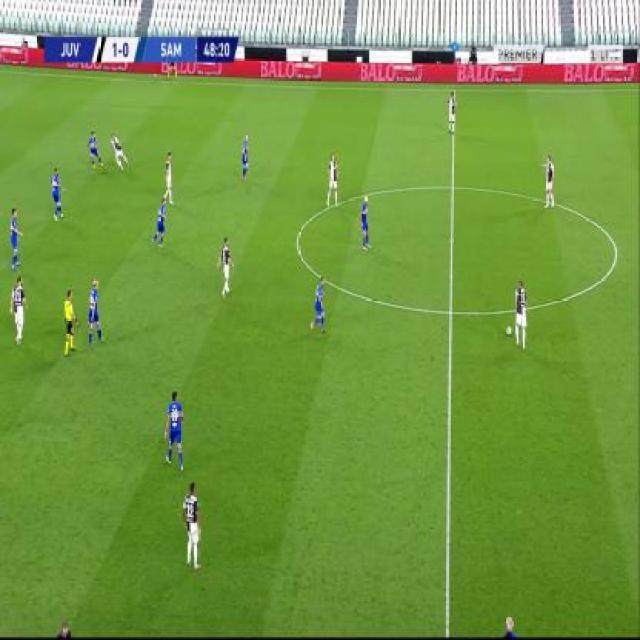ball: (506, 324, 512, 337)
player: (181, 480, 203, 571), (164, 387, 187, 472), (9, 275, 28, 346), (512, 275, 529, 351), (86, 276, 103, 350), (63, 288, 80, 356), (308, 276, 327, 336), (8, 205, 25, 270), (217, 236, 234, 299), (151, 195, 168, 251), (325, 151, 341, 208), (541, 153, 557, 210), (50, 165, 66, 221), (86, 129, 105, 172), (109, 132, 129, 172), (358, 193, 371, 253), (163, 150, 176, 206), (240, 131, 251, 182), (445, 90, 458, 133), (167, 60, 178, 80)
